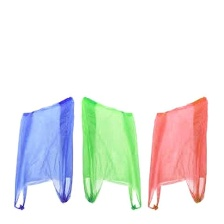plastic_bag: (146, 91, 213, 213), (80, 89, 144, 212), (12, 93, 77, 213)
